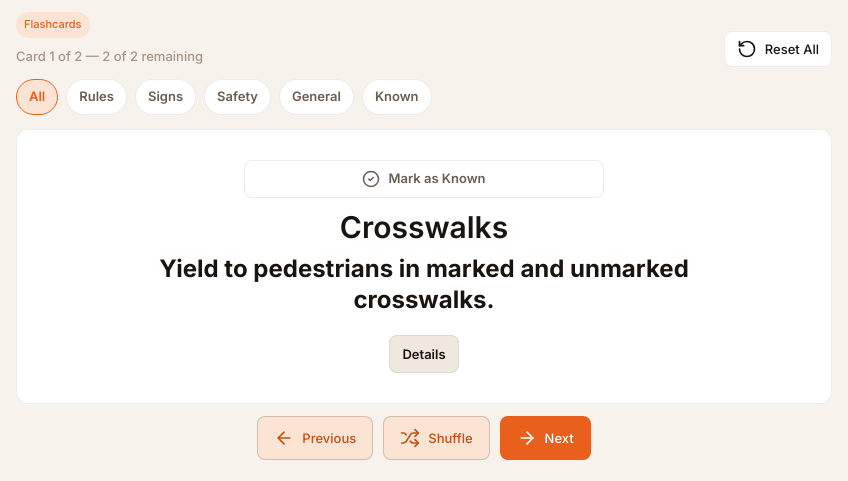
it: FlashcardsClient › advances to the next card when Next is clicked
expect the text "Card 1 of 2 — 2 of 2 remaining" is shown: met, box [16,46,203,67]
Click the button "Next".
click(545, 438)  # box [500,416,591,460]
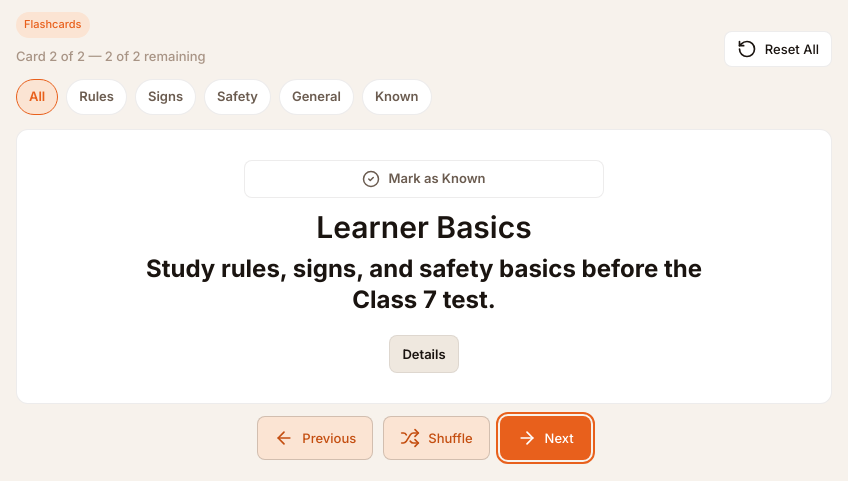
expect the text "Card 2 of 2 — 2 of 2 remaining" is shown: met, box [16,46,206,67]
expect the heading no longer shows "Crosswalks": met, box [316,210,532,244]
